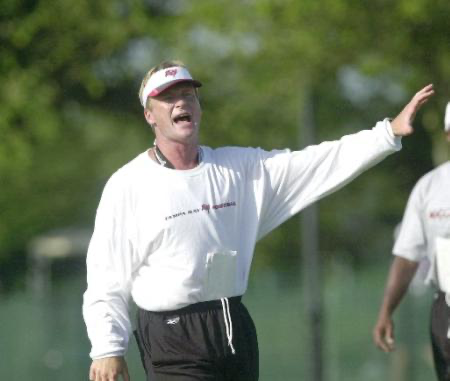Face: (145, 77, 203, 145)
